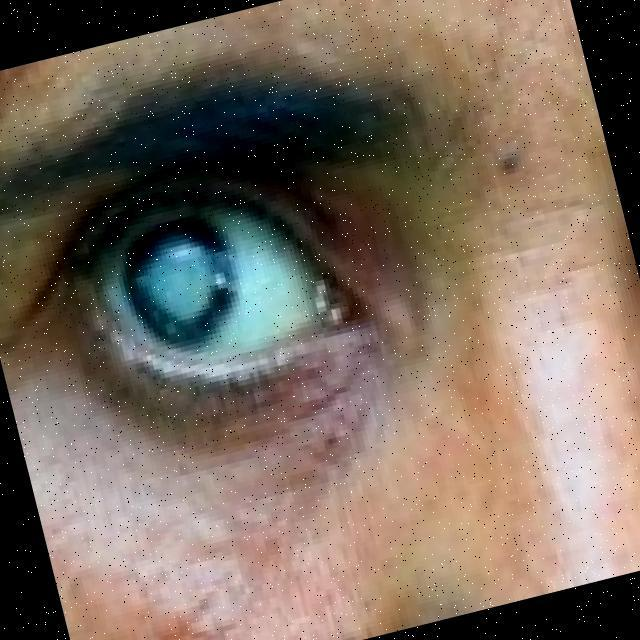Cataract: (107, 211, 230, 337)
